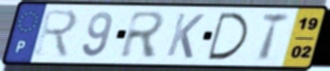9: (80, 10, 114, 59)
D: (205, 11, 250, 62)
K: (163, 12, 206, 61)
R: (117, 10, 169, 60), (31, 7, 80, 60)
T: (258, 12, 293, 63)
